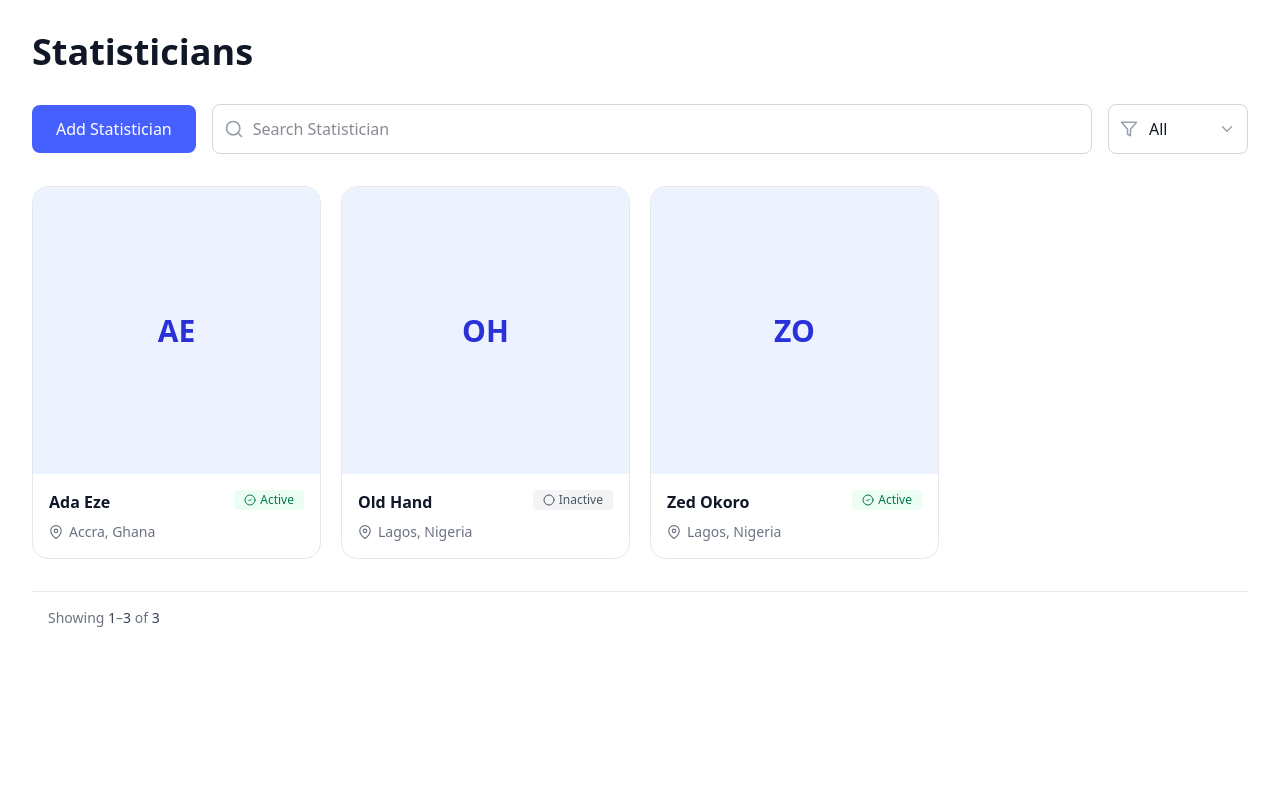
Test: Statisticians: list › narrows to one status from the filter, and keeps it in the URL
Select "Inactive" in the dropdown named "Filter by status": x=1178, y=129 x1=1108 y1=104 x2=1248 y2=154
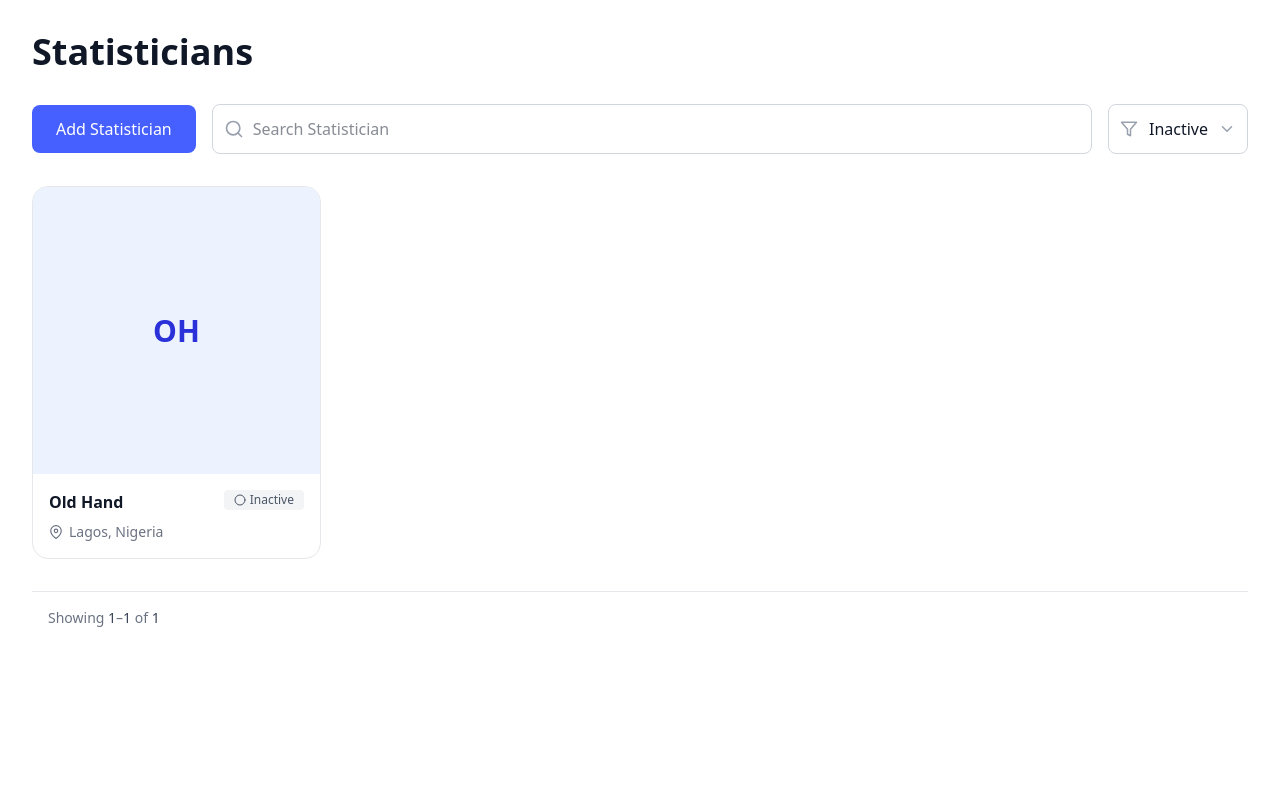
Expected: the heading "Old Hand" is shown, x1=49 y1=490 x2=124 y2=514
Now the button "Zed Okoro" is gone
